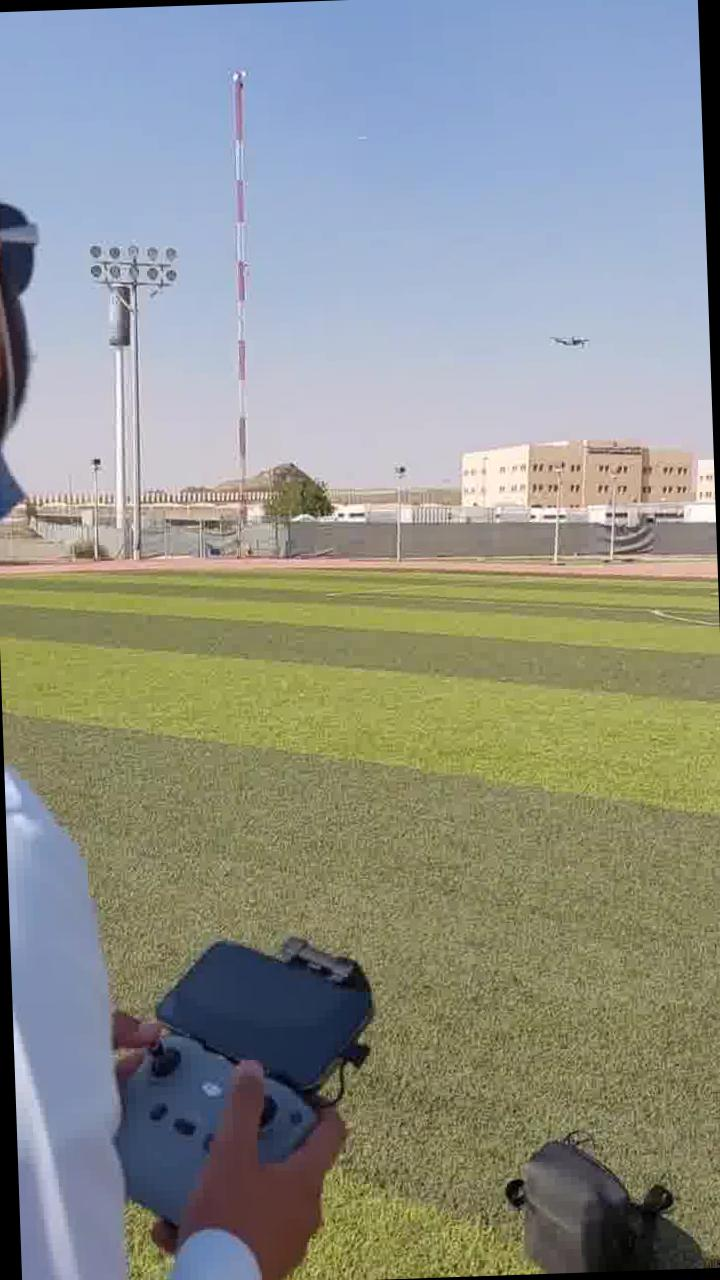drone: (541, 316, 603, 352)
